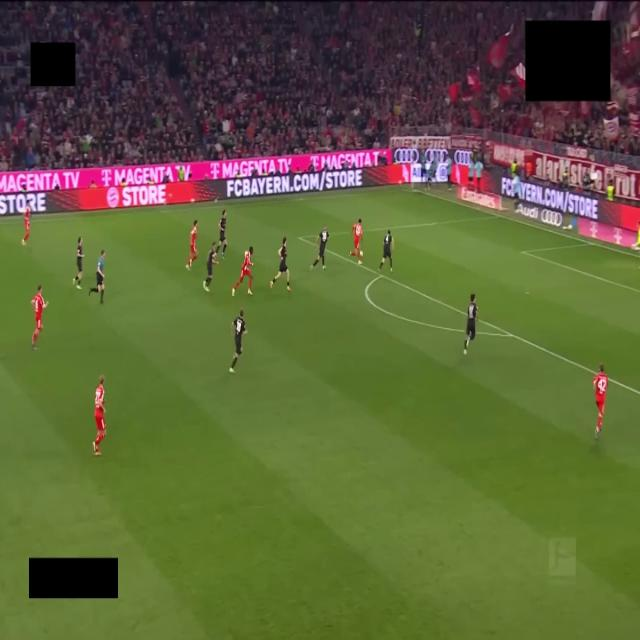ball: (360, 251, 363, 257)
player: (270, 237, 291, 292), (593, 364, 608, 439), (229, 309, 246, 373), (232, 247, 253, 296), (31, 286, 47, 350), (93, 376, 105, 455), (464, 294, 477, 354), (311, 226, 329, 269), (203, 243, 217, 292), (186, 220, 198, 270), (350, 219, 362, 264), (216, 209, 227, 258), (379, 231, 392, 272), (73, 237, 83, 289), (22, 206, 30, 246)
referee: (89, 250, 104, 303)
